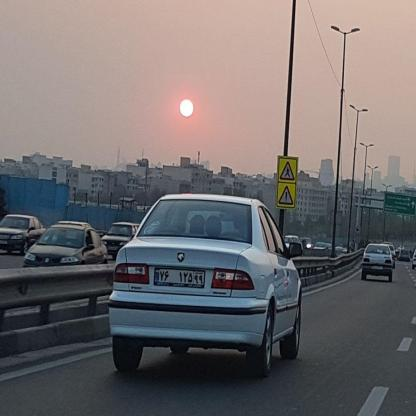licence: (154, 268, 206, 288), (370, 265, 381, 270)
